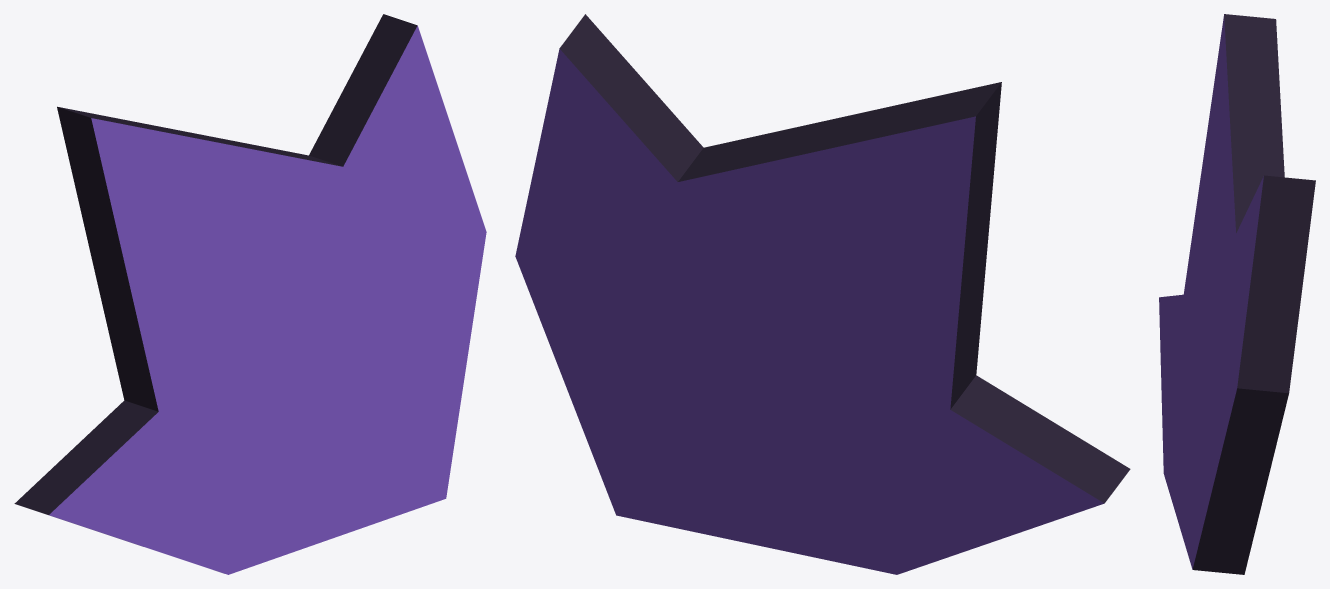
Rendered from dark_imp_parts.glb.
3 views of the same model, side by side, from view 1: azimuth 30°, elevation 25°; view 2: azimuth 150°, elevation 25°; view 3: azimuth 270°, elevation 25° (orthographic). The views are drawn at different scales.
Visible parts, largest first — view 1: r0_Pelvis; view 2: r0_Pelvis; view 3: r0_Pelvis.
Part boxes in pixels (box(x1,y1,x2,y2)): r0_Pelvis: box(14, 14, 486, 574); r0_Pelvis: box(515, 14, 1130, 574); r0_Pelvis: box(1159, 14, 1315, 574).
Size of the model in its own units: 0.2399 by 0.2196 by 0.0741.
